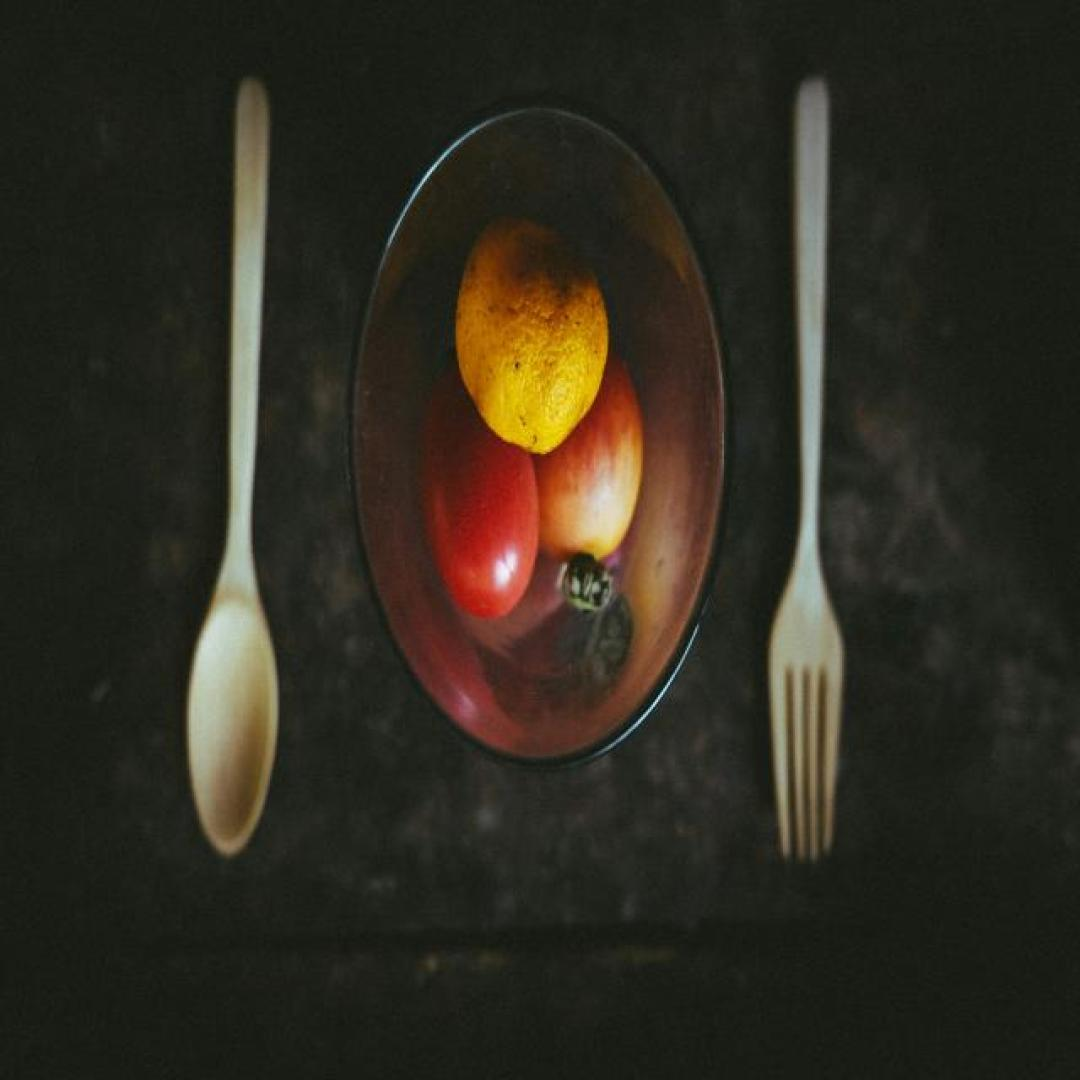matang: (418, 368, 538, 621)
